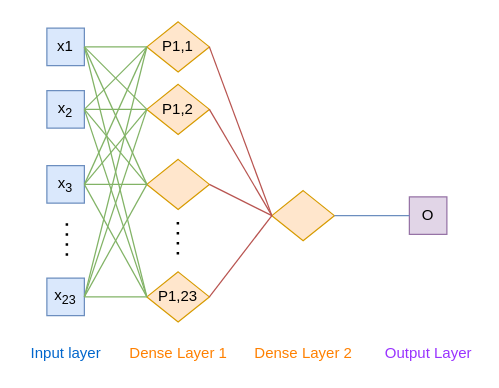
Image size: 499x388. Some labels were removed from this diagram. The shapes that lost their labels are listed below. From the top down, each one's centre as x and y in pixels, then its label:
At point 177,183: "P1,3".
At point 302,215: "P2,1".
